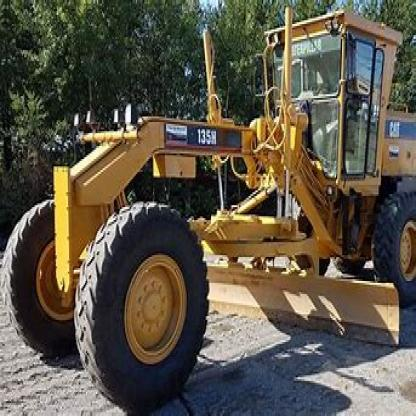bull_dozer/loader/grader: (11, 6, 415, 403)
